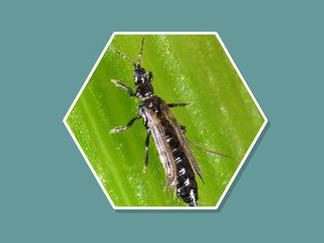pest: (124, 56, 218, 207)
